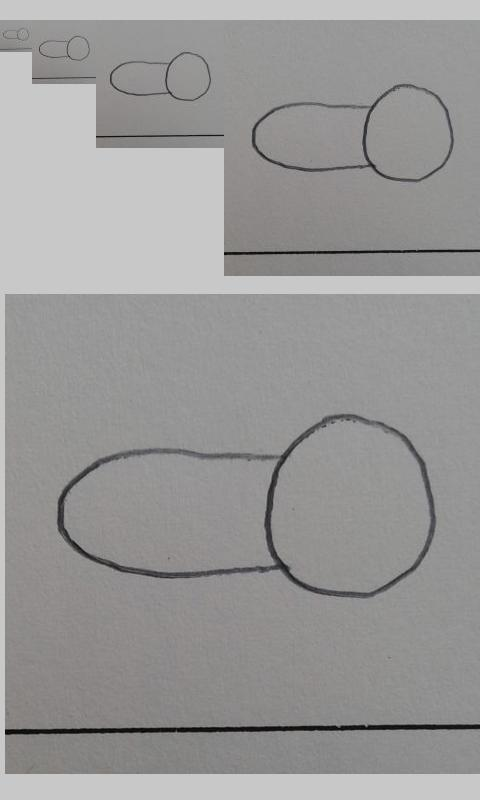switch: (56, 413, 438, 599), (250, 83, 455, 183), (109, 51, 212, 102), (38, 35, 91, 61), (2, 27, 30, 41)
